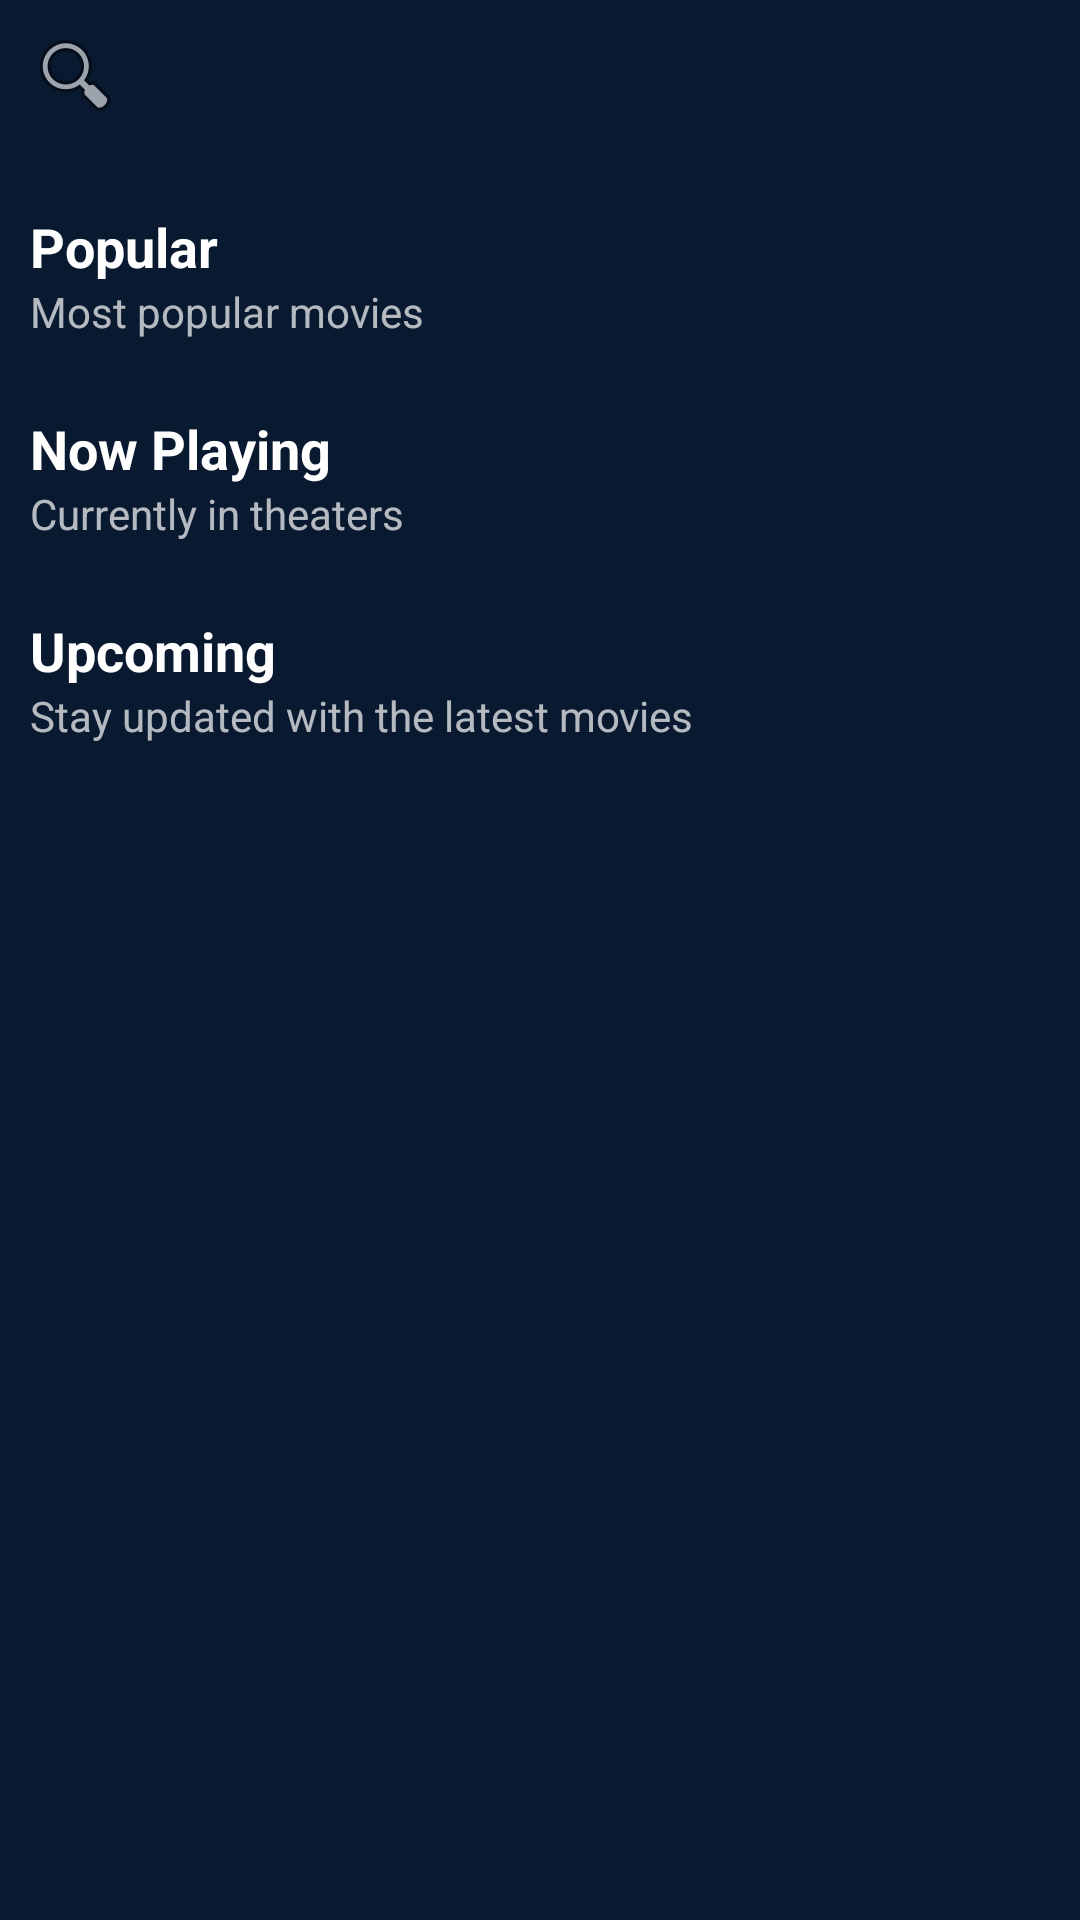

Point at icon controls on the screen. Image size 1080 x 1920, points as (x,y).
search: (75,75)
